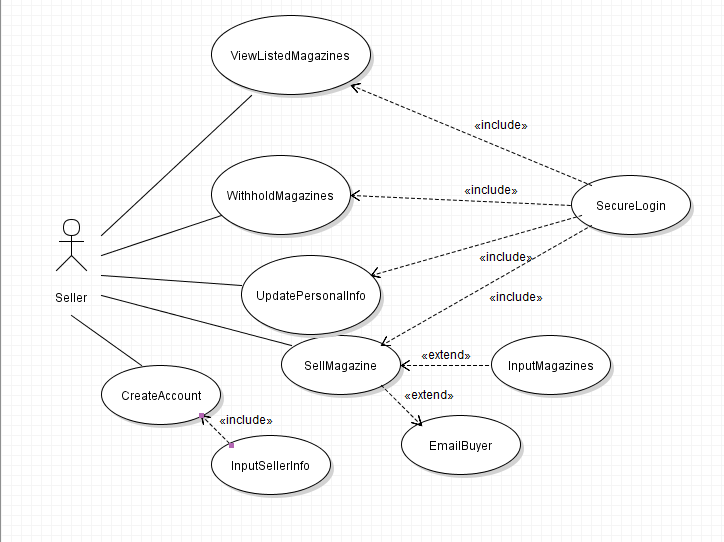actor: (50, 215, 92, 277)
association: (382, 224, 590, 347), (350, 82, 592, 185), (101, 95, 255, 236), (370, 214, 581, 279), (97, 289, 290, 348), (100, 211, 223, 258), (349, 189, 573, 211), (69, 315, 140, 365), (99, 269, 244, 292), (380, 385, 425, 427), (399, 356, 493, 373), (198, 413, 234, 447)
text: (226, 184, 334, 207), (254, 285, 367, 306), (504, 354, 602, 377), (229, 47, 353, 64), (117, 387, 204, 406), (302, 354, 384, 374), (596, 195, 669, 217), (227, 456, 314, 474), (426, 437, 495, 455), (469, 116, 534, 134), (403, 384, 457, 404), (222, 410, 276, 428), (416, 347, 473, 364), (459, 183, 519, 199), (478, 251, 536, 264), (489, 291, 544, 304), (52, 288, 89, 306)
use_case: (211, 14, 373, 95), (209, 155, 351, 235), (241, 253, 381, 334), (489, 334, 613, 398), (400, 413, 523, 476), (101, 363, 222, 426), (281, 333, 402, 395), (572, 174, 691, 236), (211, 434, 331, 495)
